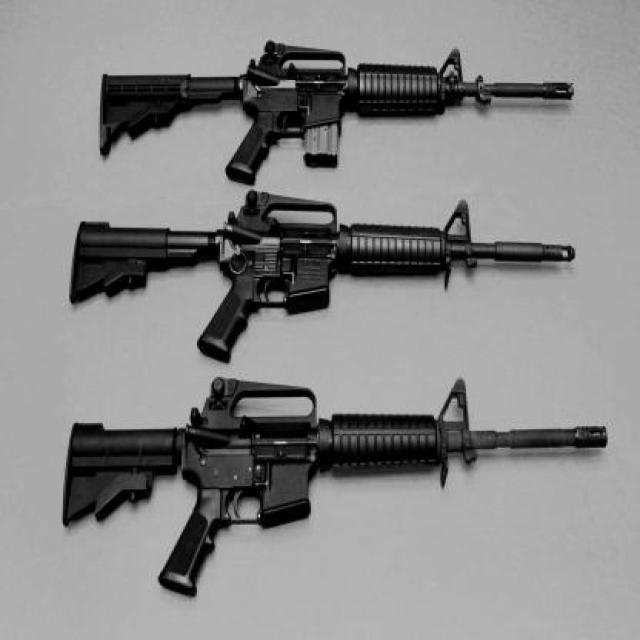weapon: (60, 376, 609, 598), (70, 190, 578, 367), (99, 40, 576, 188)
